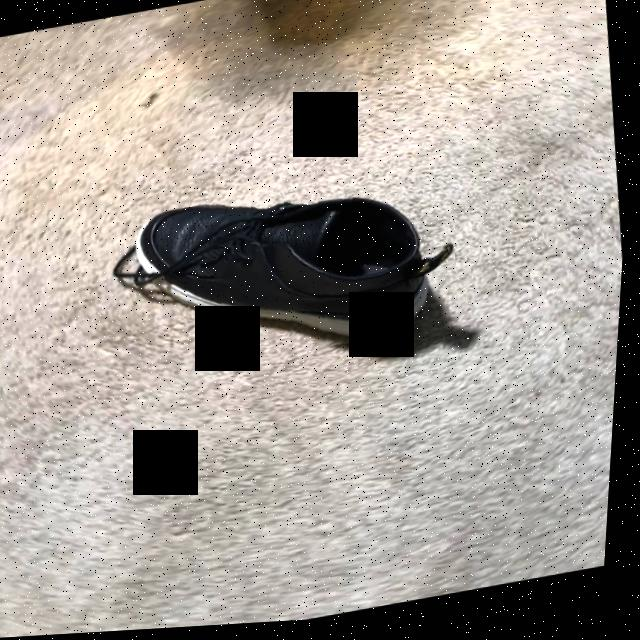shoe: (137, 203, 459, 345)
